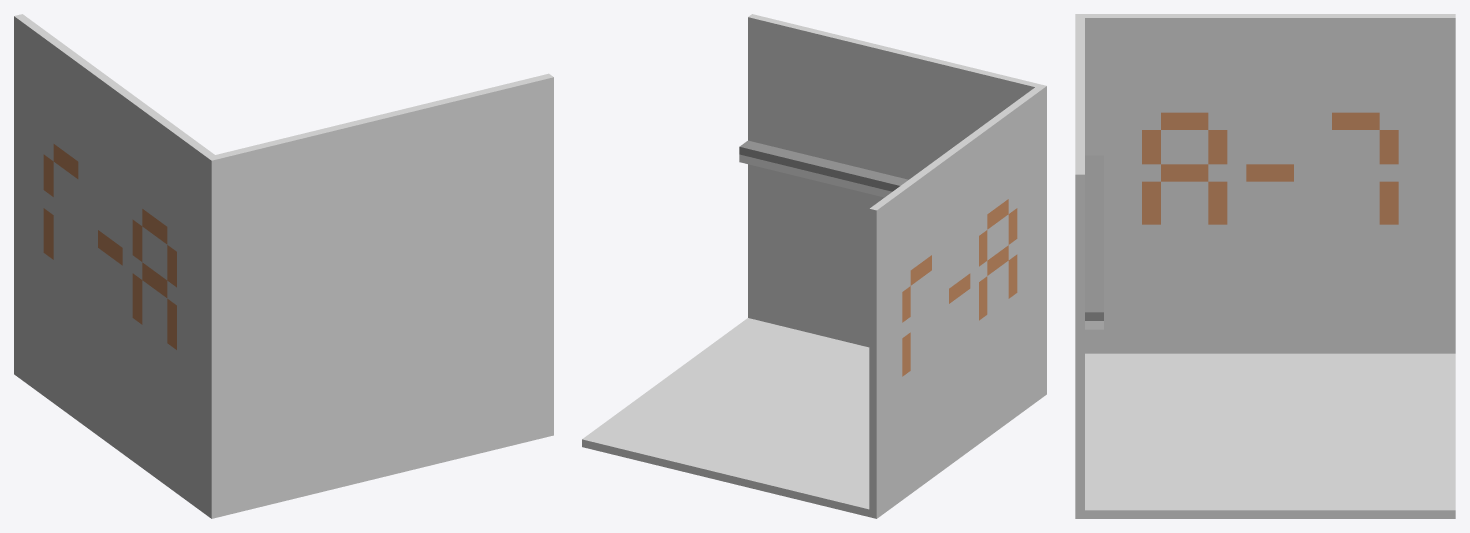
The model's file is cornerA7.obj.
3 renders of one model, left to right at view 1: azimuth 30°, elevation 25°; view 2: azimuth 150°, elevation 25°; view 3: azimuth 270°, elevation 25°, orthographic. The views are drawn at different scales.
Size of the model in its own units: 4 by 4 by 4.
1 material, 1 textured.
